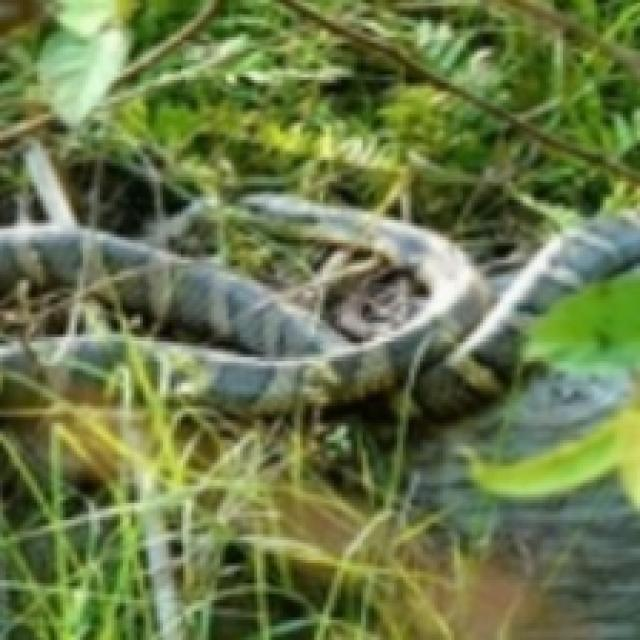king cobra: (0, 145, 640, 418)
